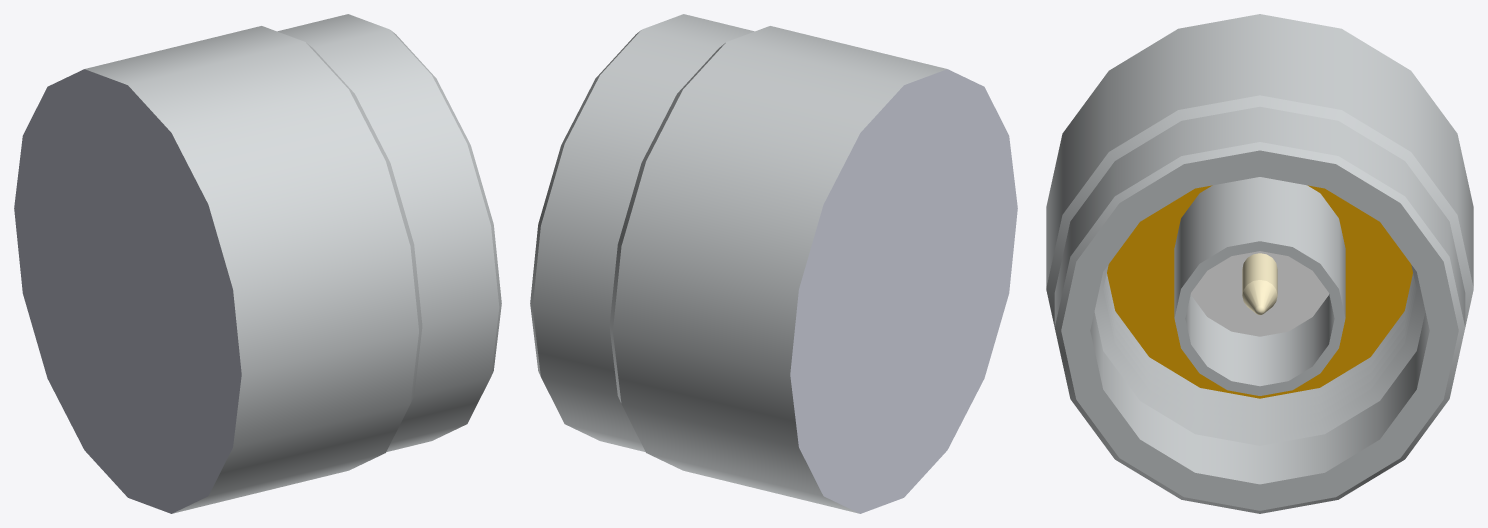
3 views of the same model, side by side, from view 1: azimuth 30°, elevation 25°; view 2: azimuth 150°, elevation 25°; view 3: azimuth 270°, elevation 25° (orthographic). The views are drawn at different scales.
Visible parts, largest first — view 1: mesh7930, mesh7929, mesh7932, mesh7931, mesh7933; view 2: mesh7930, mesh7929, mesh7932, mesh7931, mesh7933; view 3: mesh7930, mesh7934, mesh7949, mesh7932, mesh7935, mesh7950, mesh7933, mesh7936, mesh7952, mesh7931, mesh7953, mesh7951 (+6 smaller).
Part boxes in pixels (x1,y1,x2,y2): mesh7930: [85, 26, 418, 513]; mesh7929: [14, 69, 241, 513]; mesh7932: [277, 14, 499, 451]; mesh7931: [306, 43, 422, 402]; mesh7933: [391, 30, 501, 376]; mesh7930: [613, 26, 946, 513]; mesh7929: [790, 69, 1017, 513]; mesh7932: [532, 14, 754, 451]; mesh7931: [609, 43, 725, 402]; mesh7933: [530, 30, 640, 376]; mesh7930: [1046, 14, 1473, 287]; mesh7934: [1061, 150, 1458, 510]; mesh7949: [1107, 185, 1412, 398]; mesh7932: [1054, 106, 1465, 327]; mesh7935: [1090, 311, 1429, 484]; mesh7950: [1174, 177, 1345, 318]; mesh7933: [1055, 142, 1464, 513]; mesh7936: [1094, 265, 1425, 445]; mesh7952: [1185, 294, 1334, 386]; mesh7931: [1046, 95, 1473, 326]; mesh7953: [1191, 251, 1328, 336]; mesh7951: [1174, 241, 1345, 395].
Size of the model in its own units: 0.0136 by 0.02 by 0.02.
